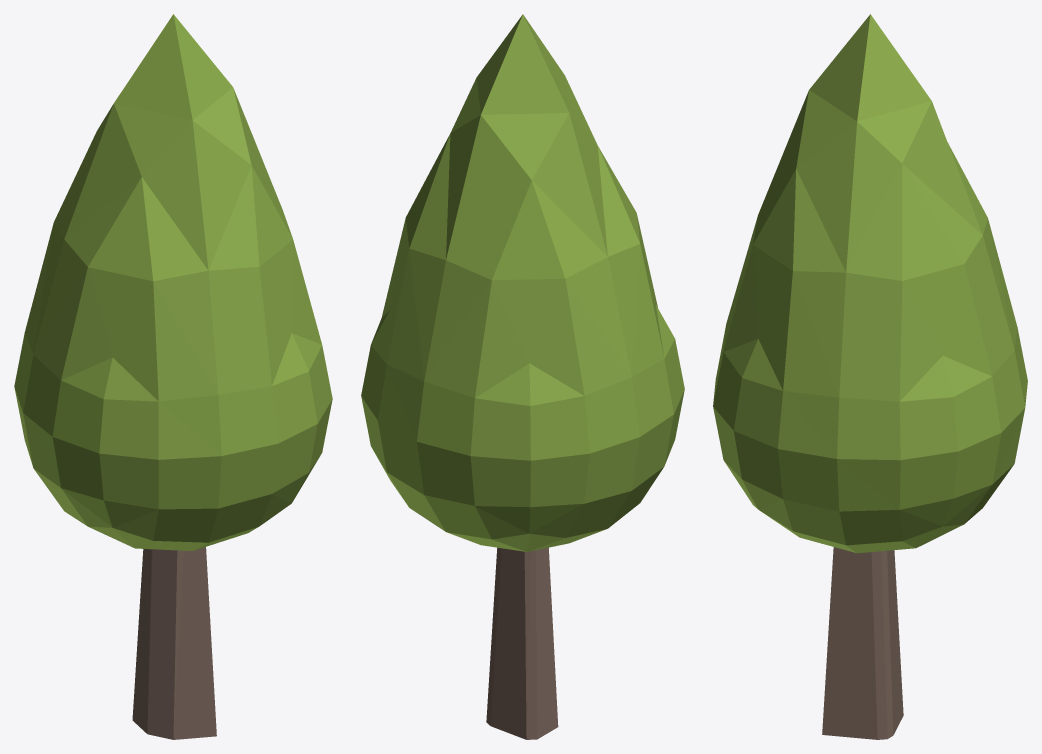
Rendered from tree.obj.
3 views of the same model, side by side, from view 1: azimuth 30°, elevation 25°; view 2: azimuth 150°, elevation 25°; view 3: azimuth 270°, elevation 25° (orthographic).
Parts seen in each view (by area): view 1: Cube.120; view 2: Cube.120; view 3: Cube.120.
Part boxes in pixels (left/top/right/bottom): Cube.120: left=14, top=14, right=332, bottom=739; Cube.120: left=361, top=14, right=684, bottom=739; Cube.120: left=713, top=14, right=1027, bottom=739.
Bounding box in the file's own units: 3.36 × 8.38 × 3.36.
1 material, 1 textured.
